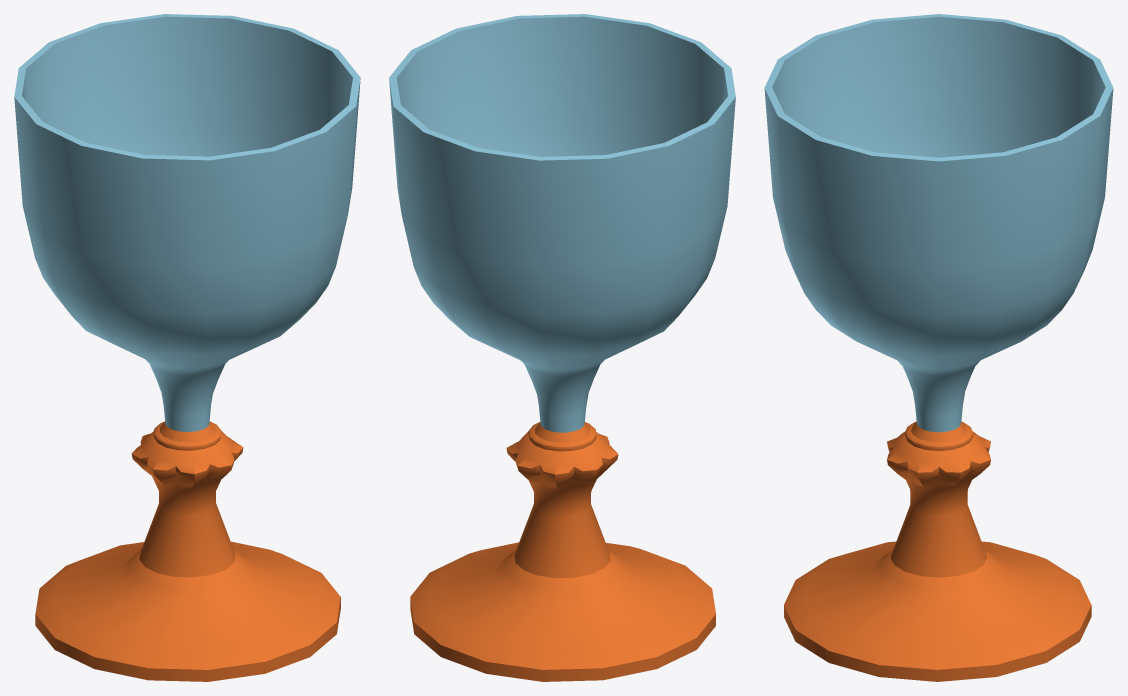
The model's file is Chalice.fbx.
3 views of the same model, side by side, from view 1: azimuth 30°, elevation 25°; view 2: azimuth 150°, elevation 25°; view 3: azimuth 270°, elevation 25° (orthographic).
Parts seen in each view (by area): view 1: Cylinder; view 2: Cylinder; view 3: Cylinder.
Part boxes in pixels (x1,y1,x2,y2): Cylinder: [14, 14, 360, 681]; Cylinder: [389, 14, 735, 681]; Cylinder: [764, 14, 1113, 681].
Size of the model in its own units: 59.6 by 99.81 by 59.6.
